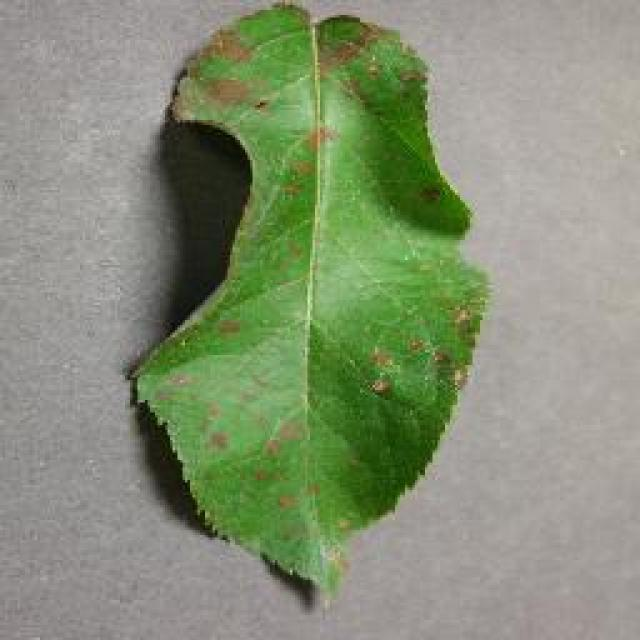apple healthy: (125, 0, 493, 608)
